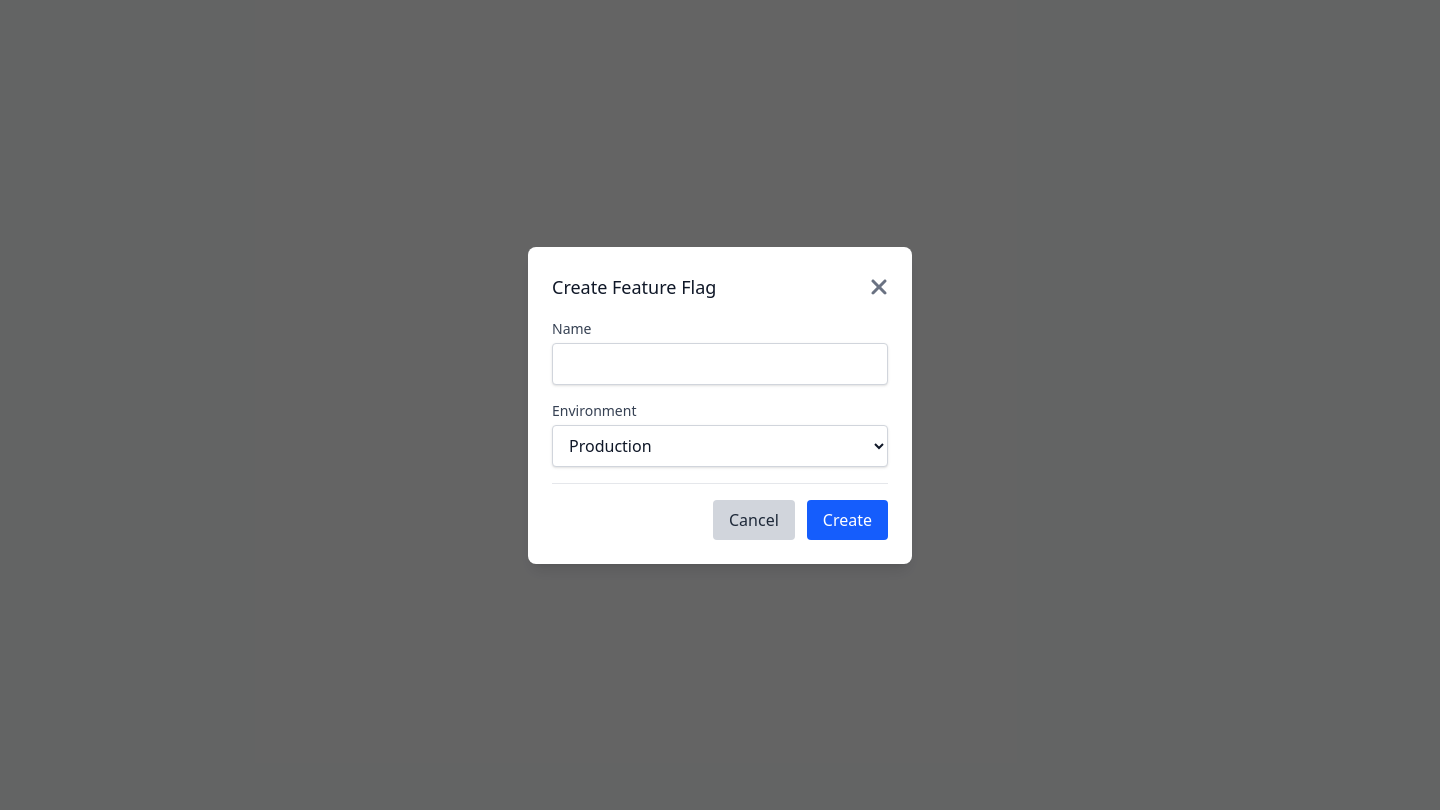
Test: FlagForm component › shows generic error when fetcher rejects without info.error
The image size is (1440, 810).
give it a valid name
Type "FlagY" into the field labelled "Name" at (720, 364), box 552,342 -> 888,384
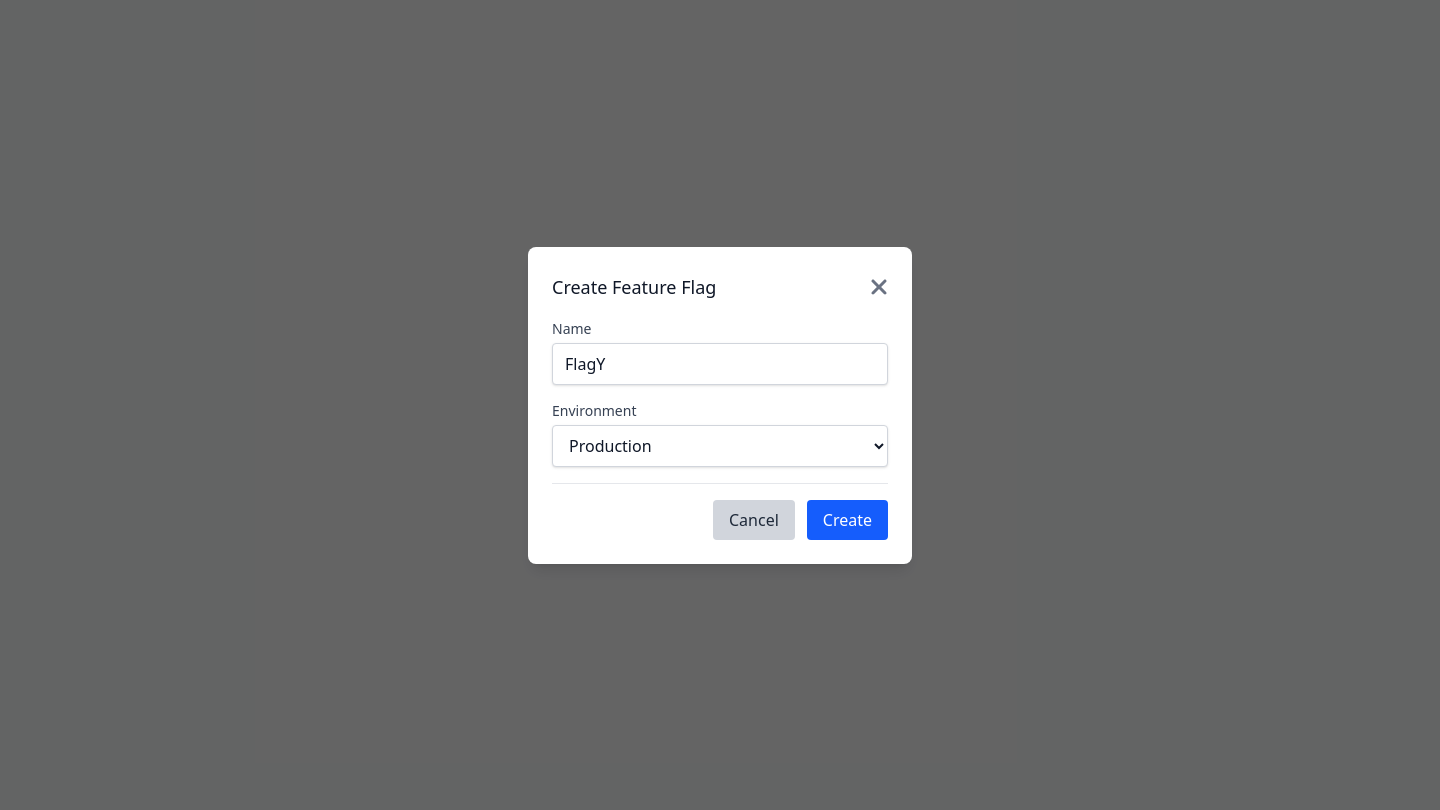
Click the button "Create" at (847, 520), box 807,500 -> 888,540
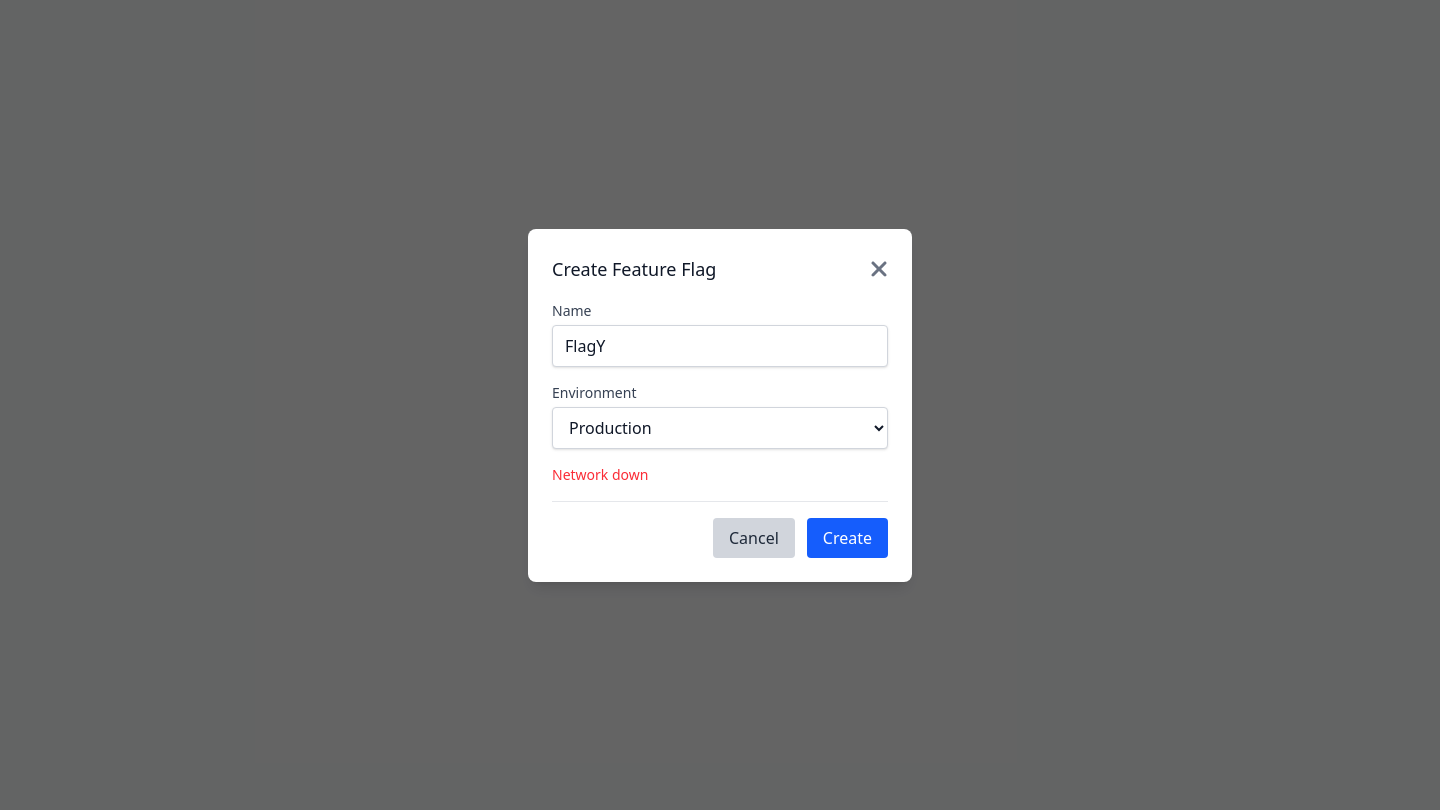
Result: the text "Network down" is shown at 552,464 -> 648,484
